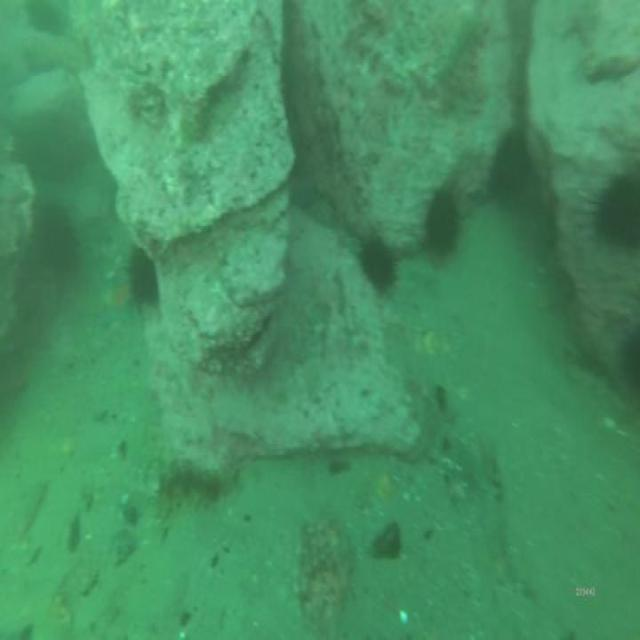echinus: (426, 191, 461, 259), (362, 242, 394, 289), (129, 252, 157, 304)
holothurian: (158, 462, 238, 511), (434, 11, 476, 79)
starfish: (41, 221, 77, 283), (106, 274, 132, 326), (290, 177, 317, 205)
